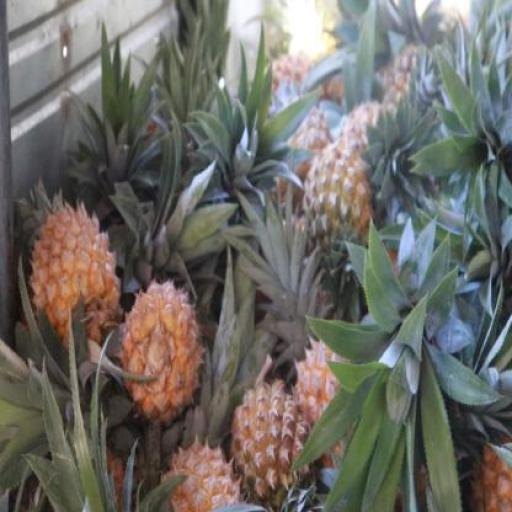Pineapple - v8 v1: (32, 202, 124, 348), (121, 280, 200, 414), (230, 377, 307, 509), (159, 432, 242, 512)
